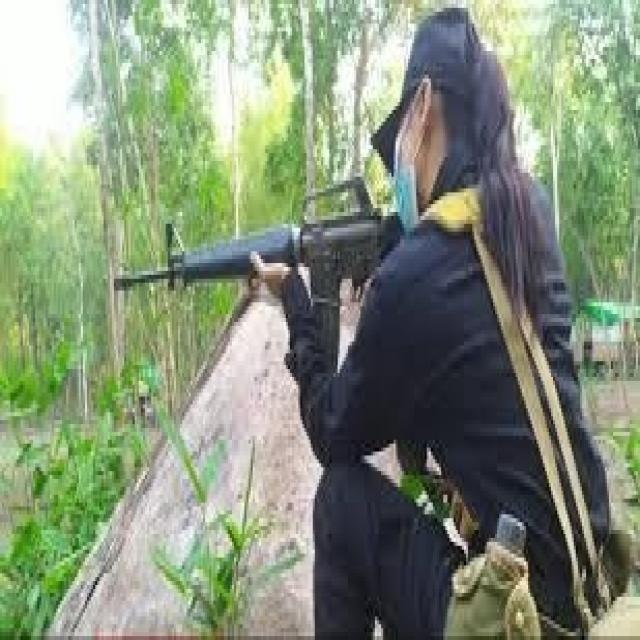gun: (111, 175, 405, 403)
